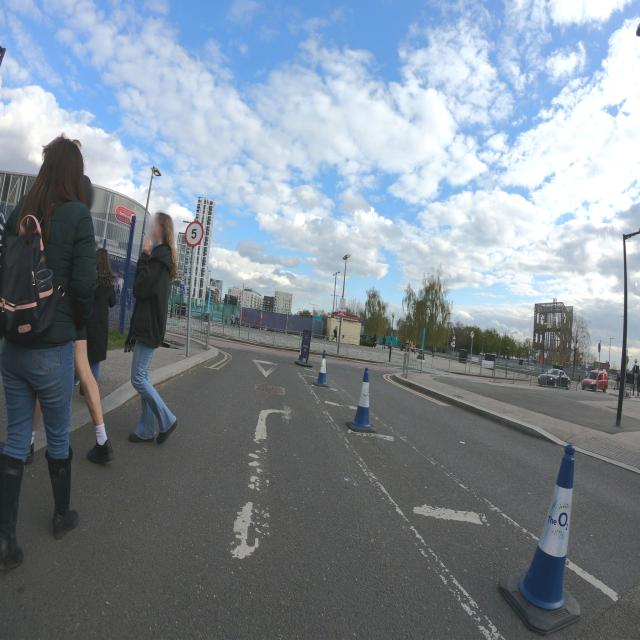car: (537, 368, 571, 389), (582, 370, 608, 392)
